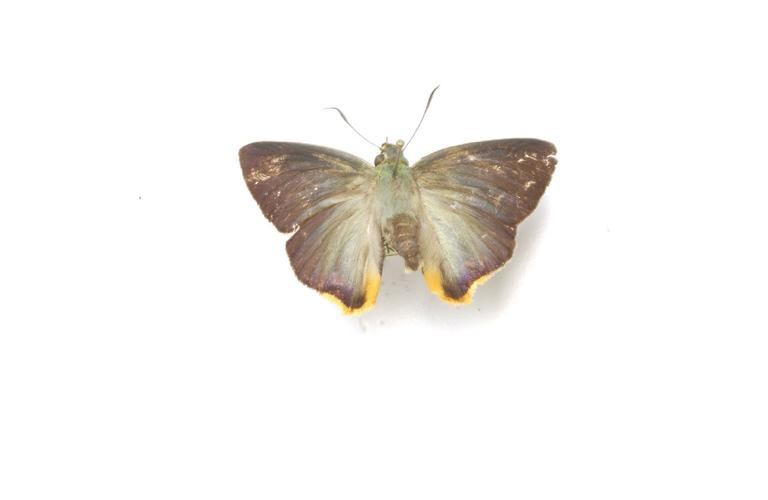Hesperiidae: (235, 83, 562, 324)
